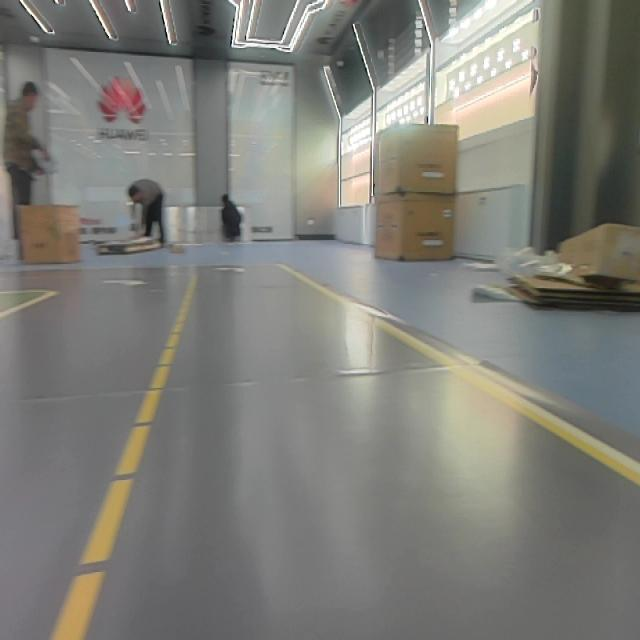left_lane: (53, 274, 197, 640)
right_lane: (284, 265, 640, 487), (0, 290, 57, 324)
